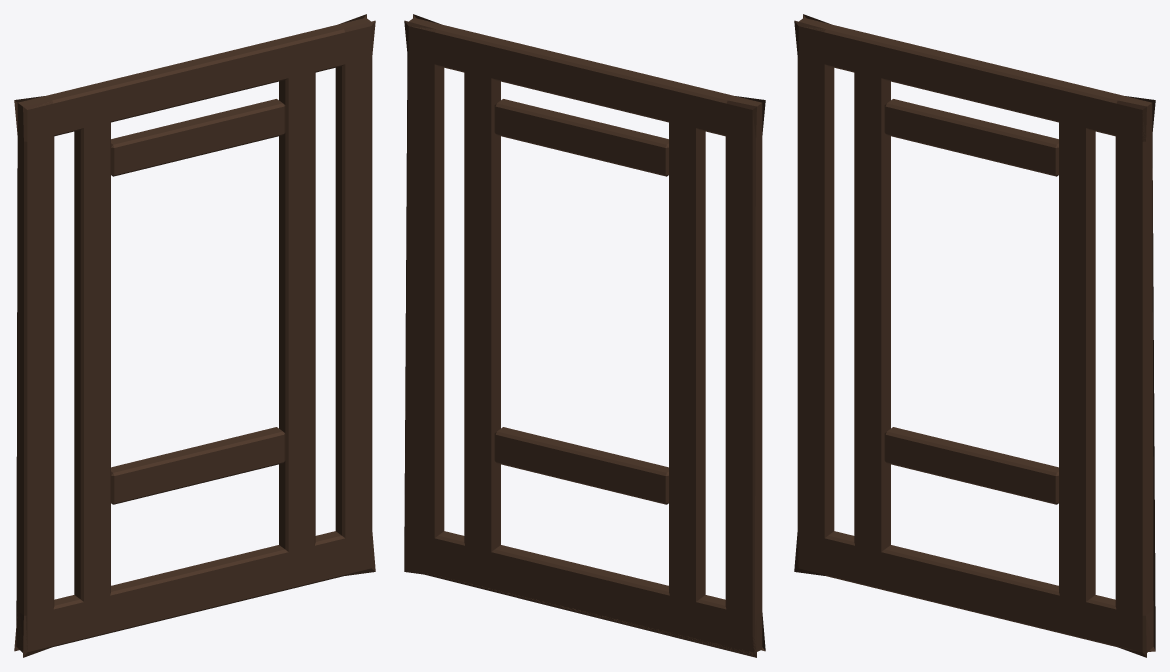
The model's file is timber_archwin_w8.fbx.
3 renders of one model, left to right at view 1: azimuth 30°, elevation 25°; view 2: azimuth 150°, elevation 25°; view 3: azimuth 330°, elevation 25°, orthographic.
Parts seen in each view (by area): view 1: timber_archwin_w8; view 2: timber_archwin_w8; view 3: timber_archwin_w8.
Boxes of the visible parts, <box> form: timber_archwin_w8: <box>14,14,375,657</box>; timber_archwin_w8: <box>404,14,765,657</box>; timber_archwin_w8: <box>794,14,1155,657</box>.
Bounding box in the file's own units: 810 × 1210 × 35.
